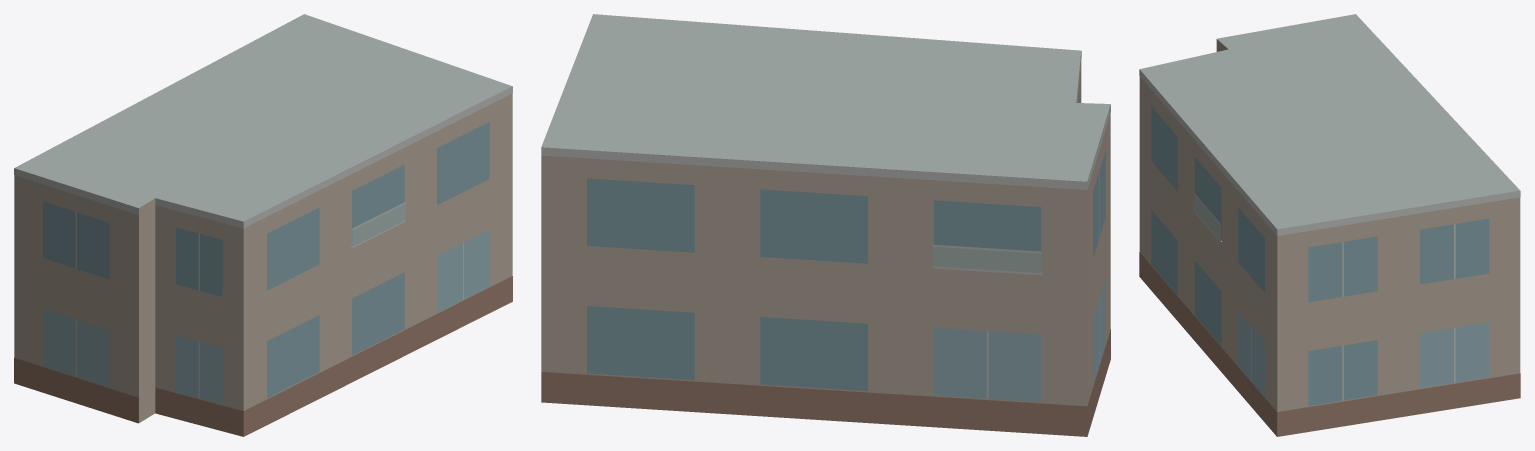
File: survey-upis-32834973.glb
3 views of the same model, side by side, from view 1: azimuth 30°, elevation 25°; view 2: azimuth 150°, elevation 25°; view 3: azimuth 270°, elevation 25° (orthographic). The views are drawn at different scales.
Parts seen in each view (by area): view 1: survey-upis-32834973.tmp; view 2: survey-upis-32834973.tmp; view 3: survey-upis-32834973.tmp.
Part boxes in pixels (bbox=[...]): survey-upis-32834973.tmp: bbox=[14, 14, 512, 436]; survey-upis-32834973.tmp: bbox=[541, 14, 1110, 436]; survey-upis-32834973.tmp: bbox=[1139, 14, 1520, 436].
Size of the model in its own units: 16.93 by 7.6 by 12.66.
